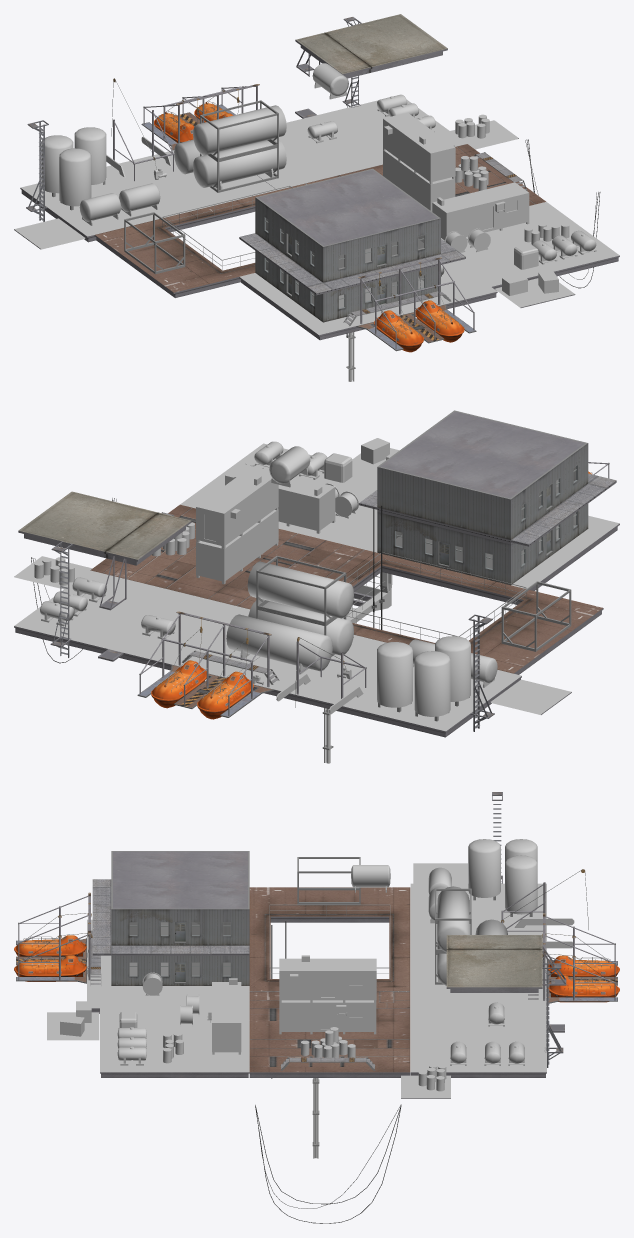
File: oilRig_lowerDeck_AST.fbx
3 renders of one model, top to bottom at view 1: azimuth 30°, elevation 25°; view 2: azimuth 150°, elevation 25°; view 3: azimuth 270°, elevation 25°, orthographic. The views are drawn at different scales.
Parts seen in each view (by area): view 1: lowerDeck; view 2: lowerDeck; view 3: lowerDeck.
Part boxes in pixels (x1,y1,x2,y2): lowerDeck: (14,14,619,381); lowerDeck: (14,410,619,763); lowerDeck: (14,792,619,1223).
Bounding box in the file's own units: 5197 × 2989 × 5562.
